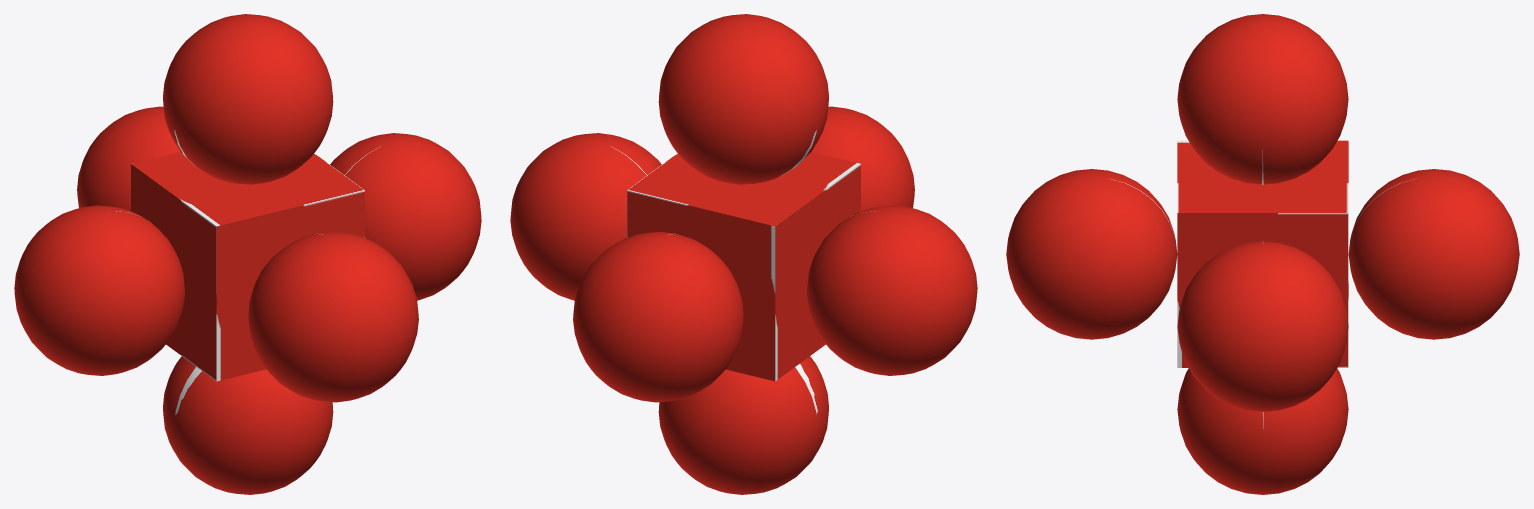
The model's file is TryExportingMe.fbx.
3 views of the same model, side by side, from view 1: azimuth 30°, elevation 25°; view 2: azimuth 150°, elevation 25°; view 3: azimuth 270°, elevation 25° (orthographic).
Visible parts, largest first — view 1: TryExportingMe, Part3, Part1, Part2, Part5, Part4, Part6; view 2: TryExportingMe, Part3, Part2, Part6, Part5, Part4, Part1; view 3: Part2, Part4, Part1, Part6, TryExportingMe, Part5.
Part boxes in pixels (left/top/right/bottom): TryExportingMe: left=131, top=152, right=364, bottom=381; Part3: left=14, top=205, right=184, bottom=375; Part1: left=248, top=232, right=418, bottom=402; Part2: left=163, top=14, right=333, bottom=184; Part5: left=163, top=356, right=333, bottom=494; Part4: left=330, top=133, right=481, bottom=300; Part6: left=77, top=106, right=180, bottom=211; TryExportingMe: left=627, top=152, right=860, bottom=381; Part3: left=807, top=205, right=977, bottom=375; Part2: left=658, top=14, right=828, bottom=184; Part6: left=573, top=232, right=743, bottom=402; Part5: left=658, top=356, right=828, bottom=494; Part4: left=510, top=133, right=661, bottom=300; Part1: left=811, top=106, right=914, bottom=211; Part2: left=1177, top=14, right=1348, bottom=184; Part4: left=1177, top=241, right=1348, bottom=411; Part1: left=1006, top=169, right=1177, bottom=339; Part6: left=1348, top=169, right=1519, bottom=339; TryExportingMe: left=1177, top=140, right=1348, bottom=367; Part5: left=1177, top=368, right=1348, bottom=494.
Bounding box in the file's own units: 3 × 3 × 3.
Materials: 1 (1 with a texture image).
